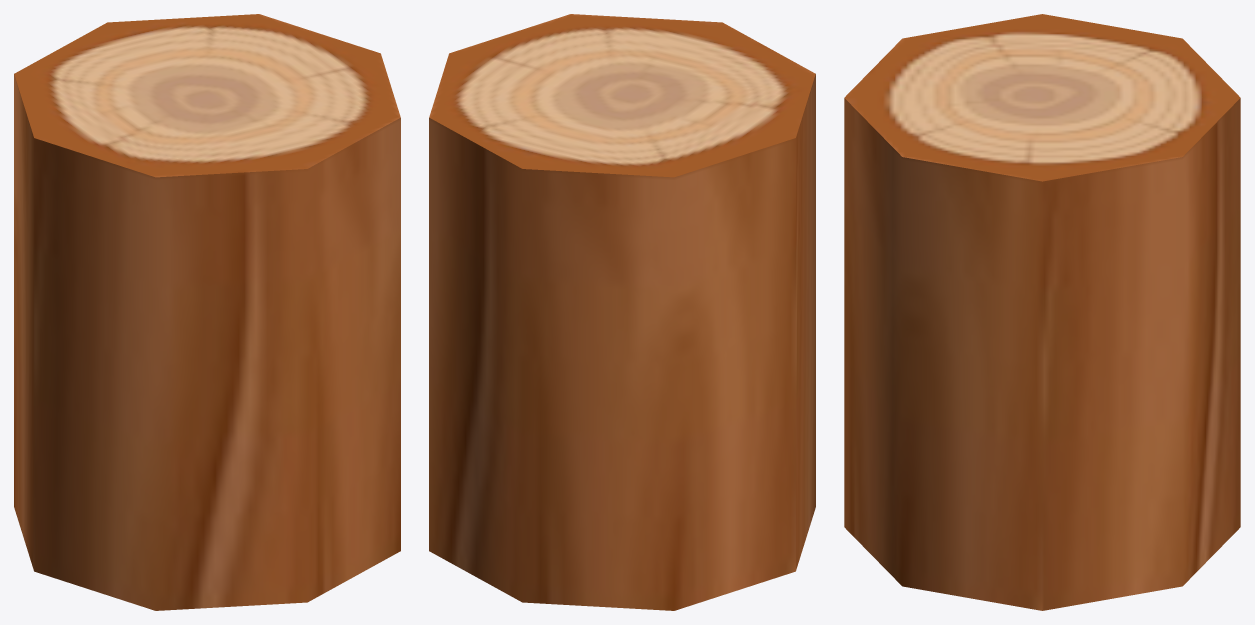
File: log_01.fbx
3 renders of one model, left to right at view 1: azimuth 30°, elevation 25°; view 2: azimuth 150°, elevation 25°; view 3: azimuth 270°, elevation 25°, orthographic.
Parts seen in each view (by area): view 1: log_01; view 2: log_01; view 3: log_01.
Part boxes in pixels (box(x1,y1,x2,y2)): log_01: box(14, 14, 400, 610); log_01: box(429, 14, 815, 610); log_01: box(844, 14, 1240, 610).
Size of the model in its own units: 30.74 by 36.74 by 30.74.
